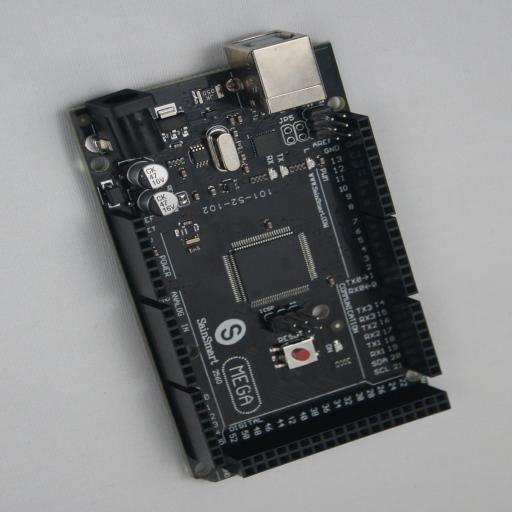Arduino Mega 2560 -Black-: (64, 31, 451, 482)
